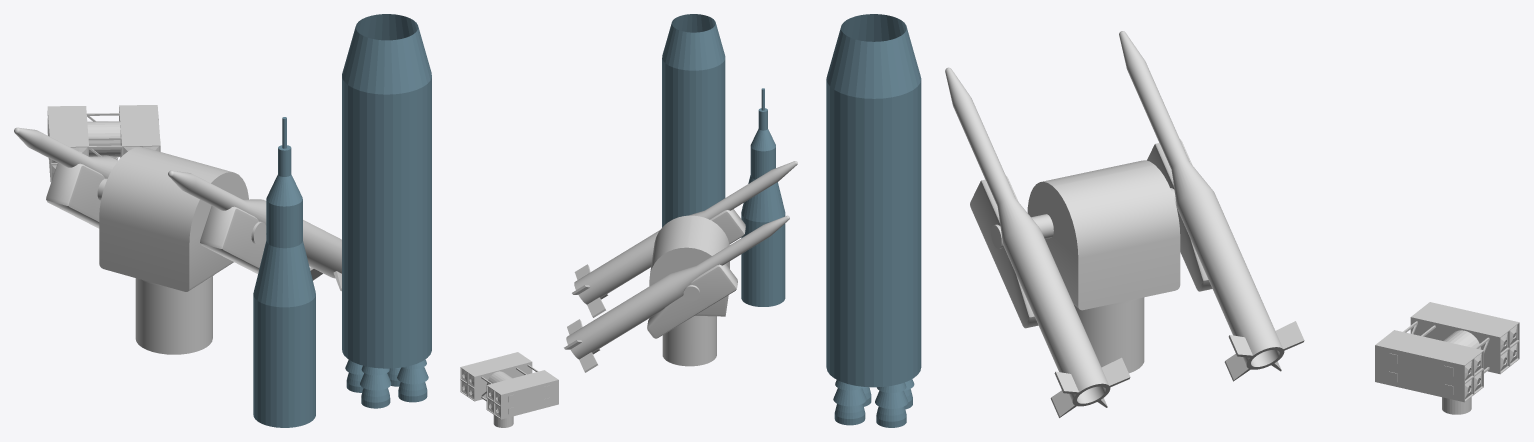
Rendered from Rocket.fbx.
3 renders of one model, left to right at view 1: azimuth 30°, elevation 25°; view 2: azimuth 150°, elevation 25°; view 3: azimuth 270°, elevation 25°, orthographic. The views are drawn at different scales.
Visible parts, largest first — view 1: Cylinder.040, Cube.593, Cylinder.041, Cylinder.042, Cylinder.043, Cube.594, Cube.595, Cylinder.045, Cylinder.046, Cube.612, Cube.617, Cube.613 (+2 smaller); view 2: Cylinder.040, Cylinder.041, Cylinder.045, Cylinder.043, Cube.593, Cube.595, Cylinder.042, Cube.616, Cube.612, Cube.618, Cube.594, Cube.617 (+1 smaller); view 3: Cylinder.040, Cube.593, Cylinder.043, Cylinder.045, Cylinder.042, Cube.613, Cube.594, Cube.617, Cube.615, Cube.595, Cube.616, Cube.612 (+1 smaller).
Part boxes in pixels (bbox=[...]): Cylinder.040: bbox=[342, 14, 431, 408]; Cube.593: bbox=[99, 147, 248, 291]; Cylinder.041: bbox=[253, 117, 315, 427]; Cylinder.042: bbox=[135, 275, 213, 354]; Cylinder.043: bbox=[168, 170, 341, 291]; Cube.594: bbox=[200, 206, 266, 273]; Cube.595: bbox=[46, 163, 104, 228]; Cylinder.045: bbox=[14, 127, 117, 178]; Cylinder.046: bbox=[87, 121, 120, 156]; Cube.612: bbox=[119, 105, 141, 156]; Cube.617: bbox=[67, 106, 88, 156]; Cube.613: bbox=[138, 105, 160, 151]; Cylinder.040: bbox=[662, 14, 725, 227]; Cylinder.041: bbox=[741, 88, 785, 306]; Cylinder.045: bbox=[564, 215, 789, 372]; Cylinder.043: bbox=[572, 161, 797, 317]; Cube.593: bbox=[649, 215, 729, 316]; Cube.595: bbox=[647, 264, 737, 338]; Cylinder.042: bbox=[662, 316, 716, 366]; Cube.616: bbox=[494, 375, 558, 407]; Cube.612: bbox=[467, 357, 532, 388]; Cube.618: bbox=[494, 392, 558, 419]; Cube.594: bbox=[710, 209, 745, 244]; Cube.617: bbox=[486, 370, 551, 401]; Cylinder.040: bbox=[826, 14, 921, 427]; Cube.593: bbox=[1027, 160, 1180, 310]; Cylinder.043: bbox=[945, 67, 1130, 417]; Cylinder.045: bbox=[1119, 31, 1304, 381]; Cylinder.042: bbox=[1074, 297, 1144, 373]; Cube.613: bbox=[1375, 337, 1474, 383]; Cube.594: bbox=[970, 176, 1038, 328]; Cube.617: bbox=[1410, 309, 1509, 355]; Cube.615: bbox=[1375, 363, 1474, 402]; Cube.595: bbox=[1147, 139, 1212, 291]; Cube.616: bbox=[1420, 302, 1519, 347]; Cube.612: bbox=[1385, 330, 1483, 375].
Bounding box in the file's own units: 1990 × 2089 × 3406.
